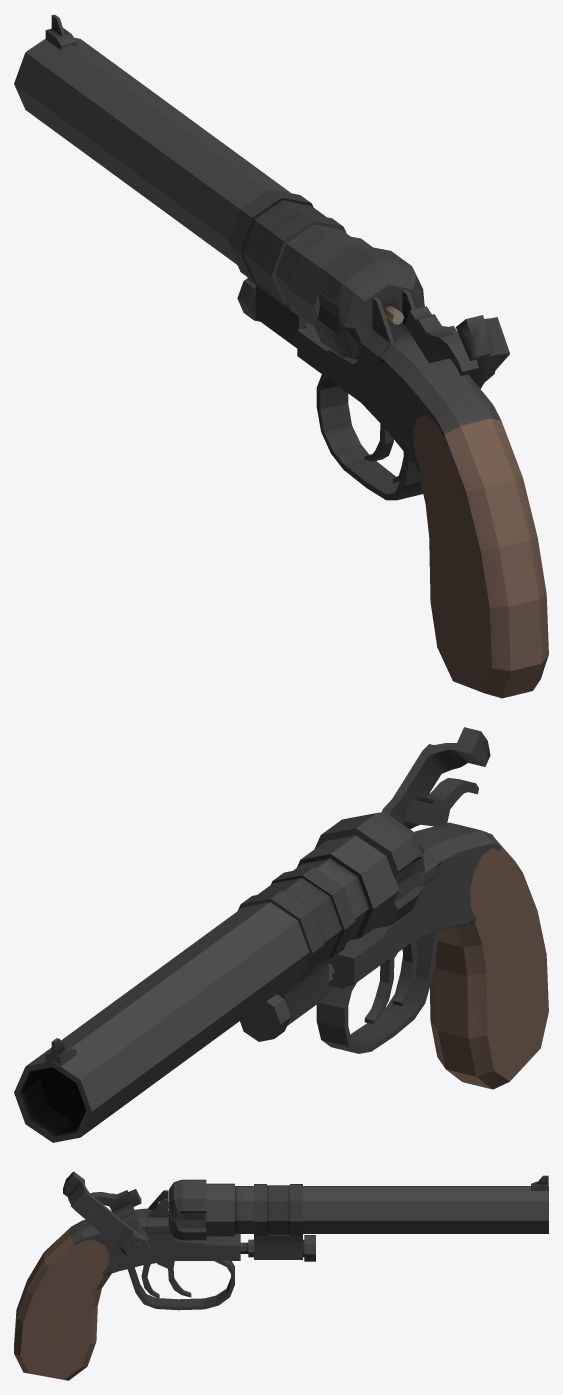
File: Pistol.fbx
The picture shows the model from 3 angles, top to bottom: view 1: azimuth 30°, elevation 25°; view 2: azimuth 150°, elevation 25°; view 3: azimuth 270°, elevation 25°; orthographic projection. The views are drawn at different scales.
Parts seen in each view (by area): view 1: Stock_Pistol_Grip, Barrel_Single_Short, Body, Body_Back_Plate_Single, Rotation_Hook, Trigger_Guard, Hammer_Single, Hammer_Double, Rotation_Lock; view 2: Barrel_Single_Short, Stock_Pistol_Grip, Body, Rotation_Hook, Trigger_Guard, Body_Back_Plate_Single, Hammer_Double, Hammer_Single, Rotation_Lock, Rotation_Pin, Trigger_Single, Trigger_Double (+1 smaller); view 3: Barrel_Single_Short, Stock_Pistol_Grip, Body, Hammer_Double, Rotation_Hook, Body_Back_Plate_Single, Trigger_Guard, Rotation_Lock, Hammer_Single, Rotation_Pin, Trigger_Single.
Part boxes in pixels (left/top/right/bottom): Stock_Pistol_Grip: left=413, top=415, right=548, bottom=698; Barrel_Single_Short: left=14, top=37, right=372, bottom=326; Body: left=297, top=290, right=500, bottom=471; Body_Back_Plate_Single: left=313, top=244, right=424, bottom=359; Rotation_Hook: left=228, top=189, right=346, bottom=304; Trigger_Guard: left=316, top=374, right=422, bottom=500; Hammer_Single: left=405, top=306, right=478, bottom=376; Hammer_Double: left=456, top=315, right=509, bottom=388; Rotation_Lock: left=247, top=277, right=307, bottom=348; Barrel_Single_Short: left=14, top=835, right=399, bottom=1142; Stock_Pistol_Grip: left=430, top=840, right=548, bottom=1089; Body: left=329, top=822, right=501, bottom=988; Rotation_Hook: left=238, top=867, right=355, bottom=982; Trigger_Guard: left=316, top=930, right=439, bottom=1053; Body_Back_Plate_Single: left=314, top=812, right=425, bottom=928; Hammer_Double: left=382, top=727, right=490, bottom=816; Hammer_Single: left=391, top=778, right=478, bottom=829; Rotation_Lock: left=277, top=955, right=336, bottom=1025; Rotation_Pin: left=240, top=963, right=334, bottom=1041; Trigger_Single: left=364, top=952, right=397, bottom=1024; Trigger_Double: left=393, top=940, right=417, bottom=1006; Barrel_Single_Short: left=205, top=1183, right=548, bottom=1236; Stock_Pistol_Grip: left=14, top=1227, right=111, bottom=1380; Body: left=70, top=1190, right=240, bottom=1275; Hammer_Double: left=63, top=1171, right=149, bottom=1260; Rotation_Hook: left=254, top=1184, right=302, bottom=1235; Body_Back_Plate_Single: left=158, top=1179, right=206, bottom=1240; Trigger_Guard: left=127, top=1261, right=234, bottom=1310; Rotation_Lock: left=254, top=1234, right=302, bottom=1259; Hammer_Single: left=90, top=1189, right=148, bottom=1242; Rotation_Pin: left=240, top=1235, right=315, bottom=1261; Trigger_Single: left=157, top=1261, right=191, bottom=1297.
Size of the model in its own units: 21.84 by 74.56 by 178.
2 materials, 2 textured.
